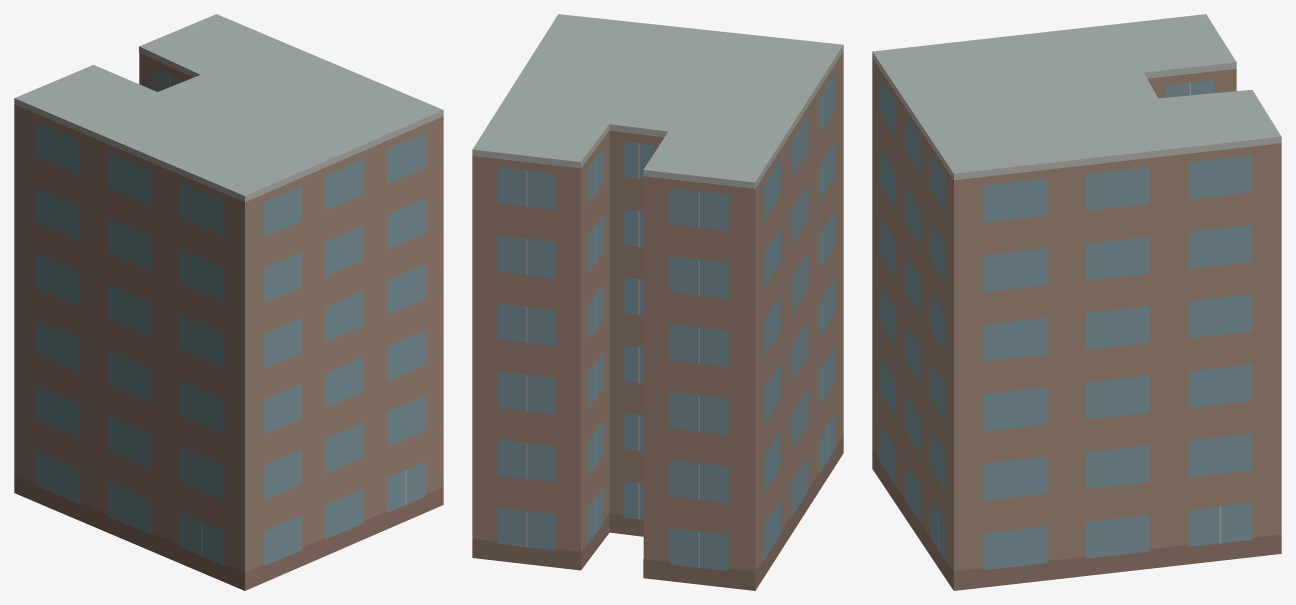
File: survey-upis-32717058.glb
3 views of the same model, side by side, from view 1: azimuth 30°, elevation 25°; view 2: azimuth 150°, elevation 25°; view 3: azimuth 270°, elevation 25° (orthographic). The views are drawn at different scales.
Parts seen in each view (by area): view 1: survey-upis-32717058.tmp; view 2: survey-upis-32717058.tmp; view 3: survey-upis-32717058.tmp.
Boxes of the visible parts, left/top/right/bottom form: survey-upis-32717058.tmp: left=14, top=14, right=443, bottom=590; survey-upis-32717058.tmp: left=472, top=14, right=843, bottom=590; survey-upis-32717058.tmp: left=872, top=14, right=1281, bottom=590.
Size of the model in its own units: 12.91 by 15.7 by 13.97.
